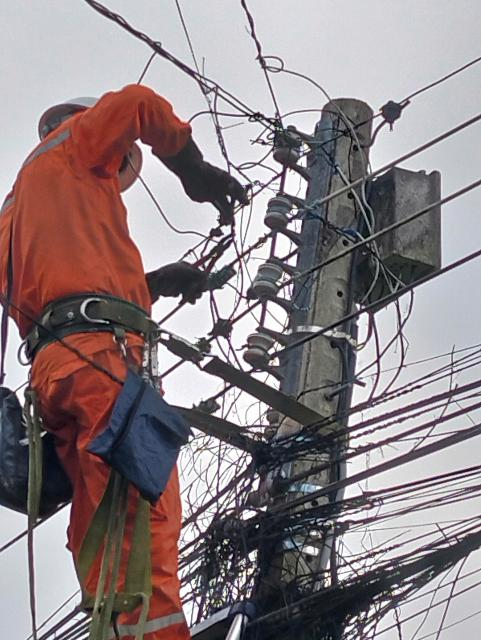gloves: (156, 137, 253, 222), (131, 247, 214, 310)
helmet: (38, 87, 152, 195)
